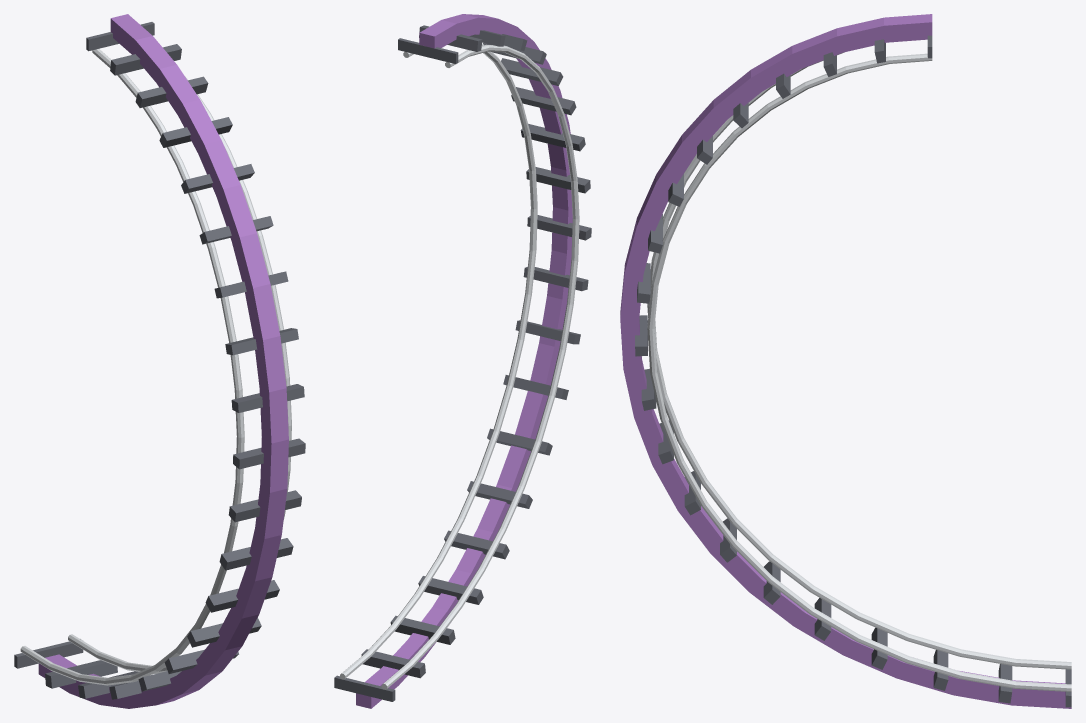
The model's file is theme-park-rides-and-coasters-theme-park-rides-and-coa-376ae2af__28631.glb.
The picture shows the model from 3 angles, left to right: view 1: azimuth 30°, elevation 25°; view 2: azimuth 150°, elevation 25°; view 3: azimuth 270°, elevation 25°; orthographic projection. The views are drawn at different scales.
Visible parts, largest first — view 1: theme-park-rides-and-coasters-track-loop-lower; view 2: theme-park-rides-and-coasters-track-loop-lower; view 3: theme-park-rides-and-coasters-track-loop-lower.
Boxes of the visible parts, left/top/right/bottom form: theme-park-rides-and-coasters-track-loop-lower: left=14, top=14, right=305, bottom=708; theme-park-rides-and-coasters-track-loop-lower: left=334, top=14, right=591, bottom=708; theme-park-rides-and-coasters-track-loop-lower: left=620, top=14, right=1071, bottom=708.
Bounding box in the file's own units: 1.06 × 10.88 × 6.48.
